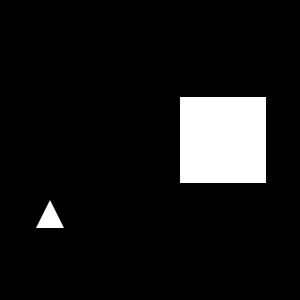circle: (180, 97, 266, 183)
triangle: (36, 200, 64, 228)
